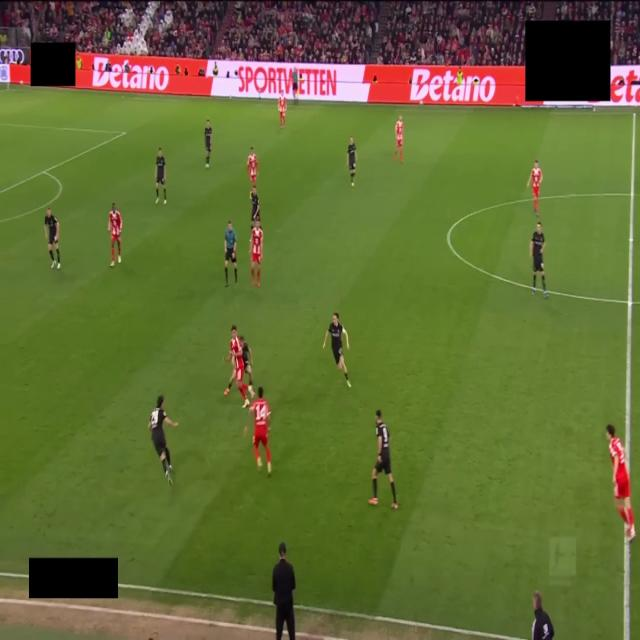player: (606, 424, 635, 541), (369, 410, 397, 509), (148, 395, 177, 485), (323, 312, 351, 387), (228, 325, 253, 407), (249, 387, 271, 474), (530, 223, 547, 297), (250, 218, 264, 287), (45, 208, 60, 269), (108, 203, 122, 267), (527, 160, 542, 215), (240, 336, 252, 392), (240, 336, 252, 389), (155, 148, 166, 204), (347, 137, 357, 187), (247, 147, 258, 187), (250, 186, 260, 228), (394, 116, 403, 162), (205, 120, 212, 168), (278, 91, 286, 128)
referee: (225, 220, 237, 287)
